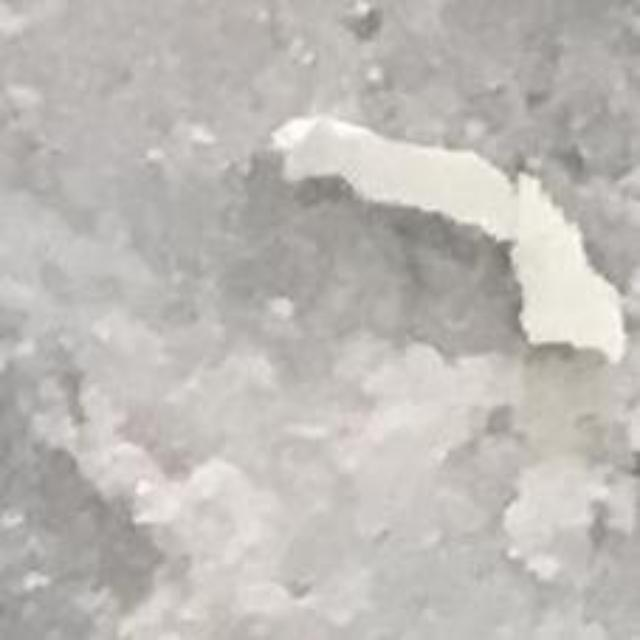peeling plaster: (271, 116, 628, 363)
